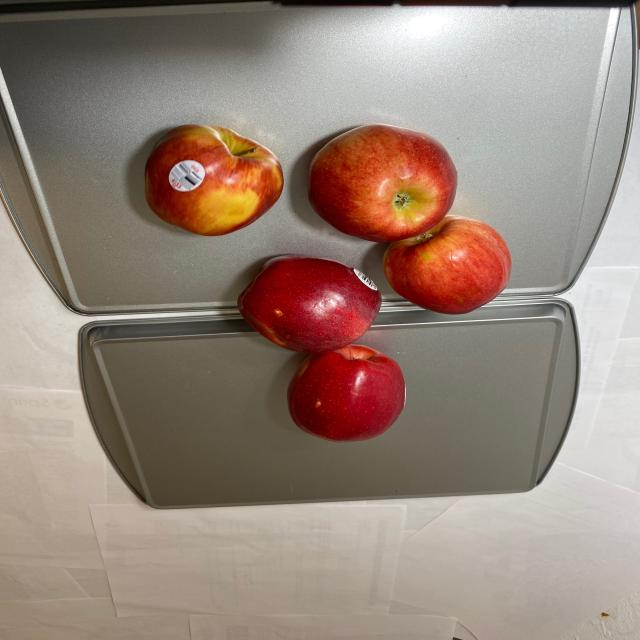apple: (142, 127, 510, 444)
